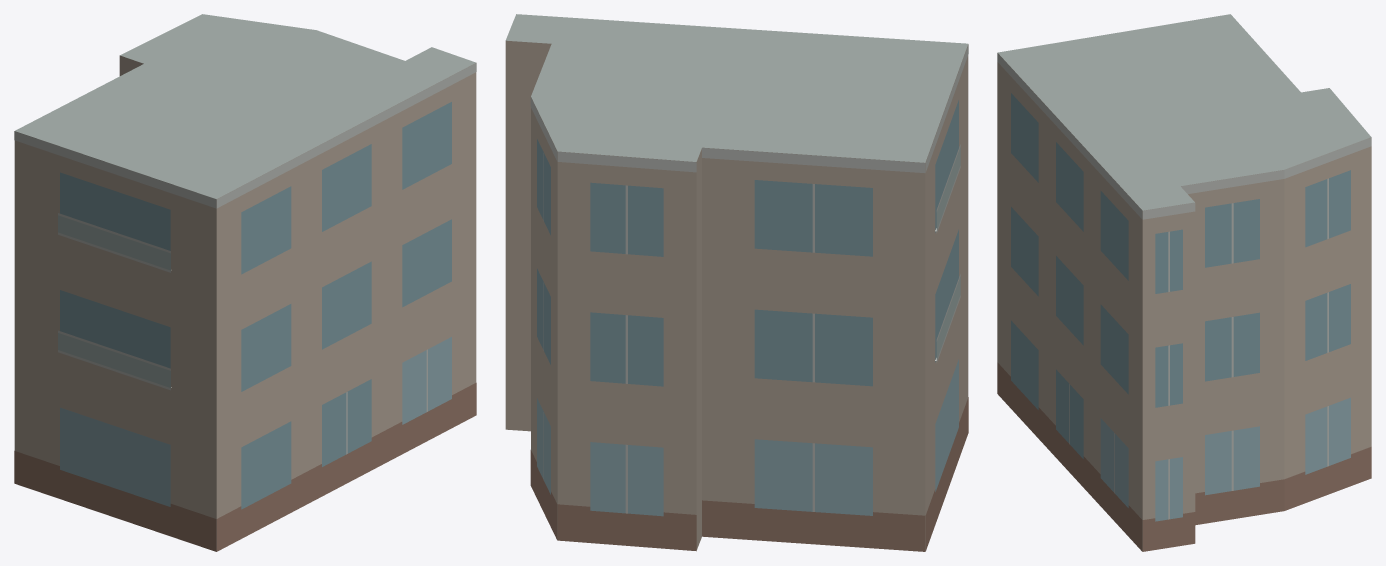
Rendered from survey-upis-32719435.glb.
The picture shows the model from 3 angles, left to right: view 1: azimuth 30°, elevation 25°; view 2: azimuth 150°, elevation 25°; view 3: azimuth 270°, elevation 25°; orthographic projection. The views are drawn at different scales.
Parts seen in each view (by area): view 1: survey-upis-32719435.tmp; view 2: survey-upis-32719435.tmp; view 3: survey-upis-32719435.tmp.
Part boxes in pixels (x1,y1,x2,y2): survey-upis-32719435.tmp: (14, 14, 476, 551); survey-upis-32719435.tmp: (505, 14, 968, 551); survey-upis-32719435.tmp: (997, 14, 1371, 551).
Size of the model in its own units: 11.32 by 9.15 by 9.1.
